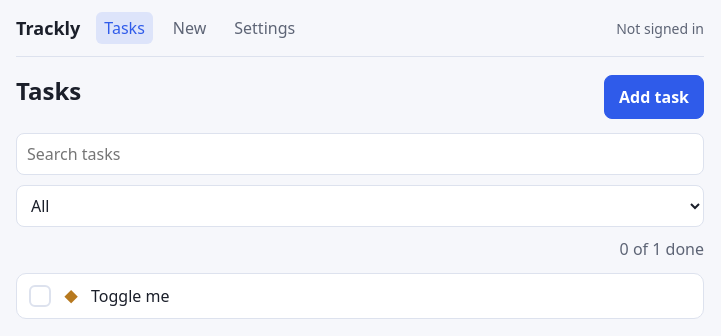
screens › toggles done from the list and updates the counter
What coordinates should you click on to do the following:
click the checkbox with test id "task-checkbox"
I would click on:
 (40, 296)
Its box is [29, 285, 51, 307].
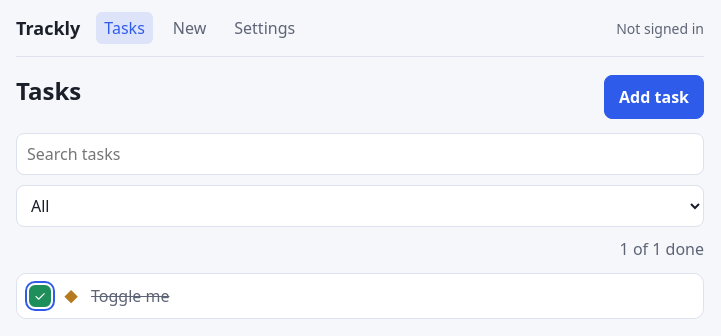
Result: the text with test id "done-counter" reads "1 of 1 done" at [620, 237, 704, 261]
